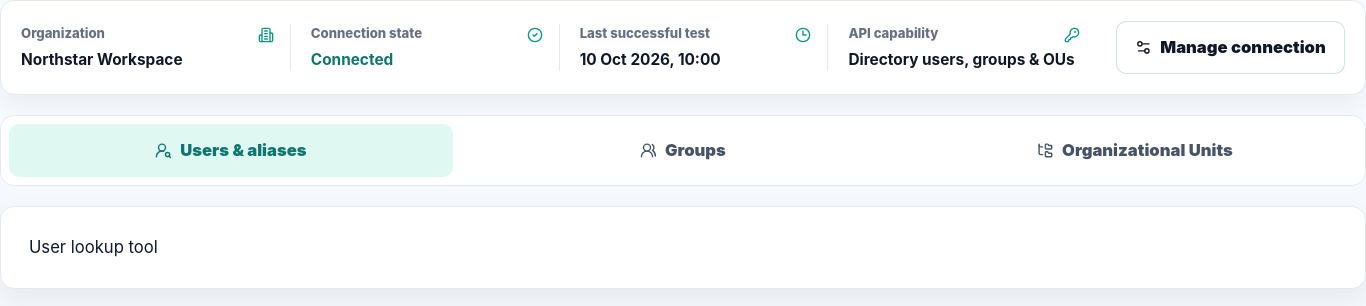
Scenario: GoogleWorkspaceAdministration › provides Organizational Units navigation in the real administration area
Click the button "Organizational Units": (1135, 151) x1=913 y1=124 x2=1357 y2=177
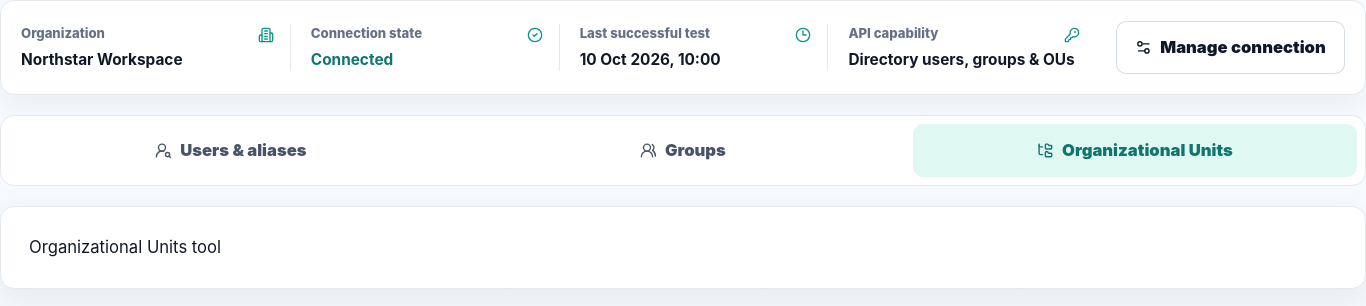
Now the text "Organizational Units tool" is shown, box x1=29 y1=237 x2=221 y2=257
